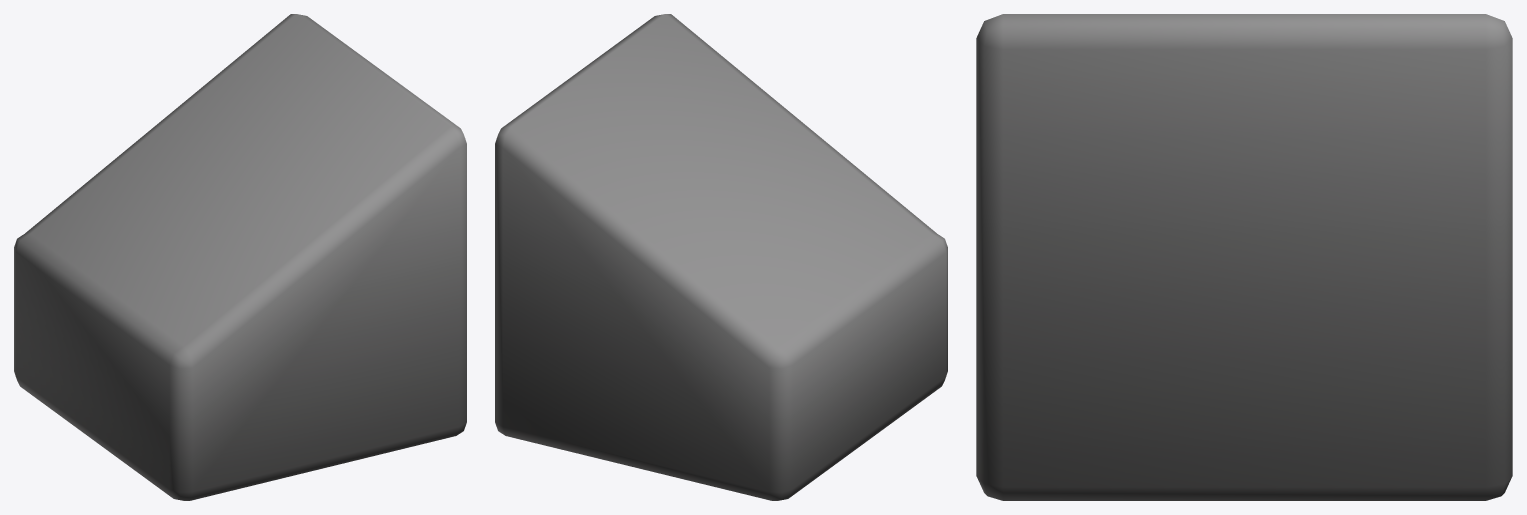
The model's file is 3D_Tile_Dungeon_Slope_01A.fbx.
3 renders of one model, left to right at view 1: azimuth 30°, elevation 25°; view 2: azimuth 150°, elevation 25°; view 3: azimuth 270°, elevation 25°, orthographic. The views are drawn at different scales.
Visible parts, largest first — view 1: 3D_Tile_Dungeon_Slope_01A; view 2: 3D_Tile_Dungeon_Slope_01A; view 3: 3D_Tile_Dungeon_Slope_01A.
Part boxes in pixels (<box>): 3D_Tile_Dungeon_Slope_01A: <box>14,14,466,500</box>; 3D_Tile_Dungeon_Slope_01A: <box>495,14,947,500</box>; 3D_Tile_Dungeon_Slope_01A: <box>976,14,1512,500</box>.
Size of the model in its own units: 200 by 200 by 200.
